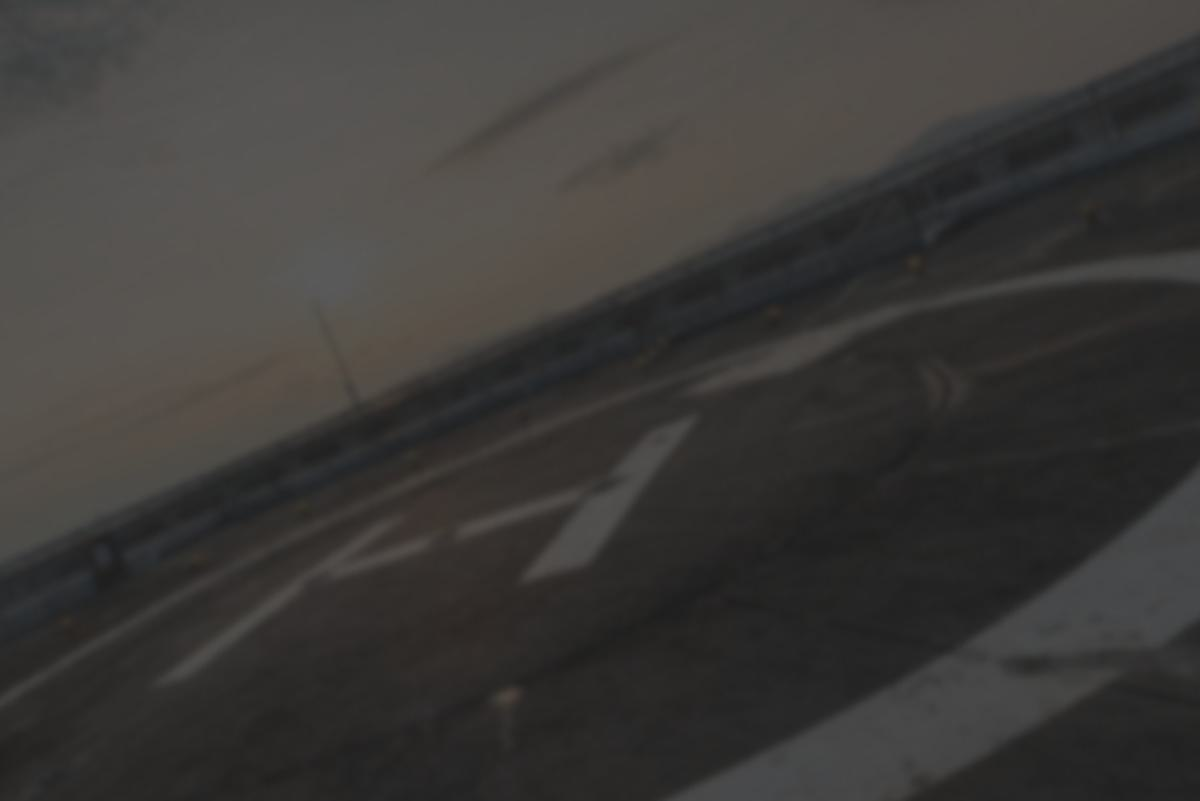Apron: (1, 243, 1188, 793)
